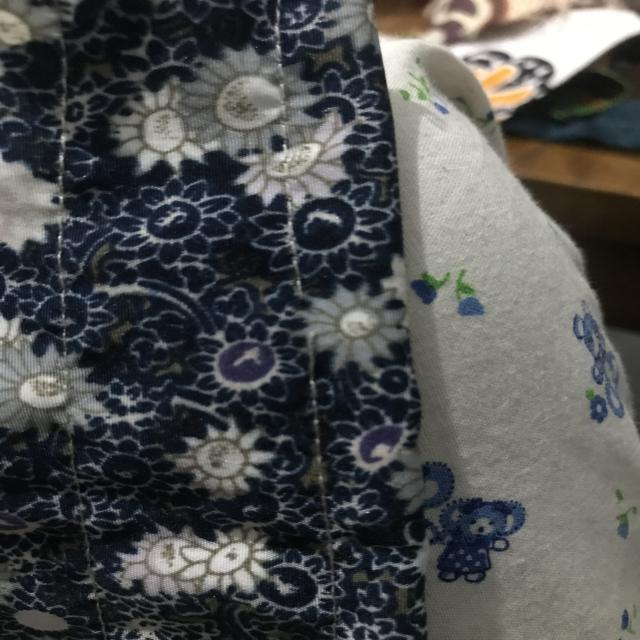broken: (286, 266, 336, 358)
